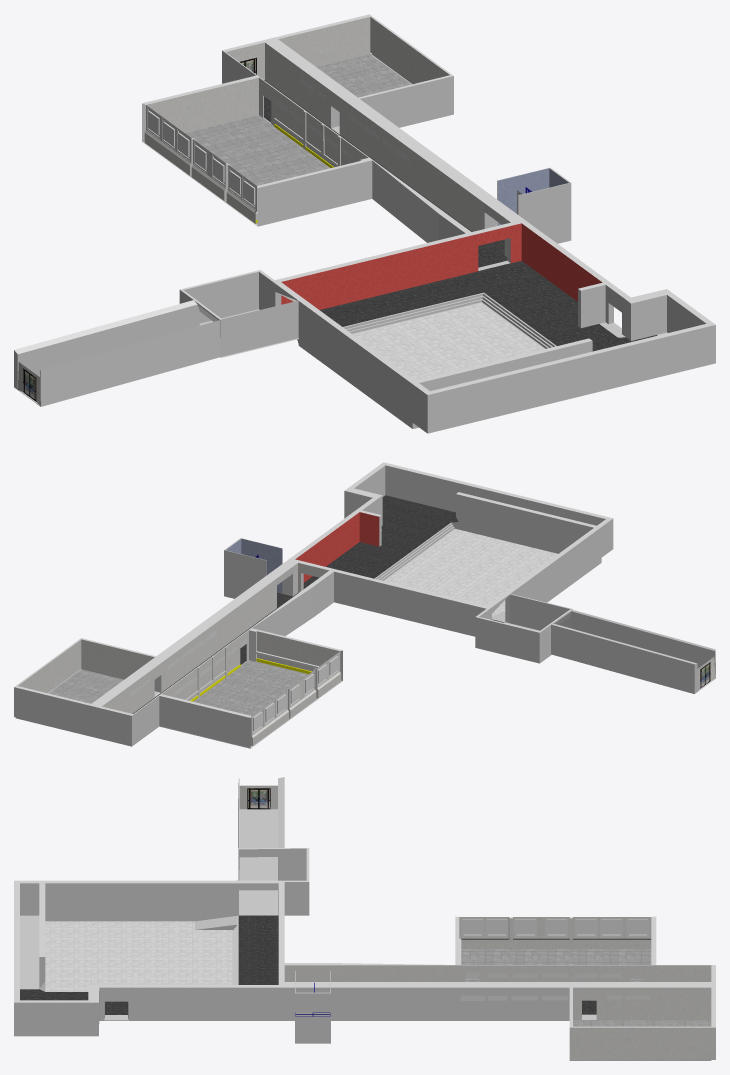
Rendered from iut_hall.fbx.
The picture shows the model from 3 angles, top to bottom: view 1: azimuth 30°, elevation 25°; view 2: azimuth 150°, elevation 25°; view 3: azimuth 270°, elevation 25°; orthographic projection. The views are drawn at different scales.
Parts seen in each view (by area): view 1: iut; view 2: iut; view 3: iut.
Boxes of the visible parts, x1,y1,x2,y2 form: iut: [14, 14, 715, 433]; iut: [14, 462, 715, 748]; iut: [14, 777, 715, 1060].
Size of the model in its own units: 65.28 by 6.63 by 75.71.
Materials: 13 (7 with a texture image).
